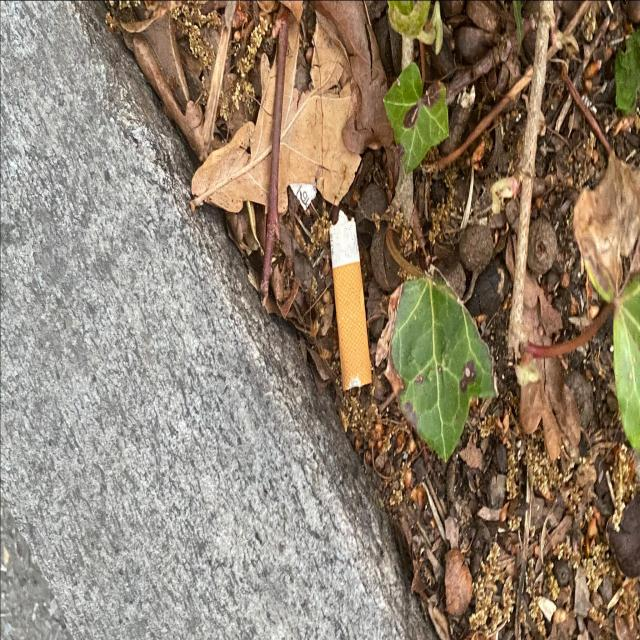other waste: (328, 208, 373, 392)
